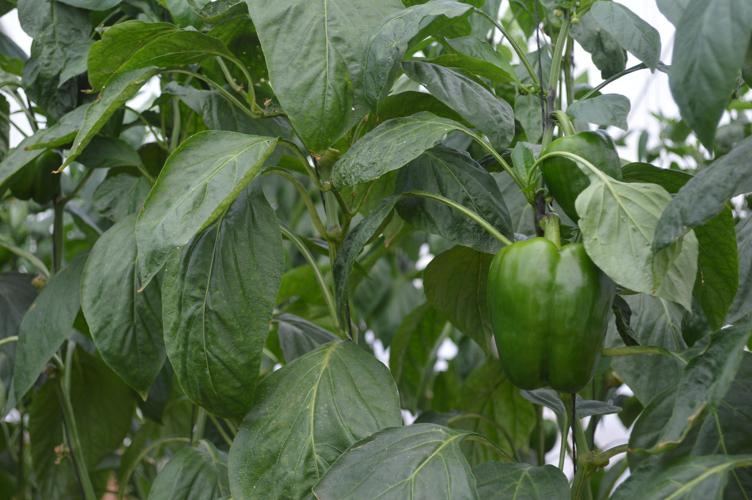BellPepper: (487, 242, 607, 399), (547, 127, 629, 223)
